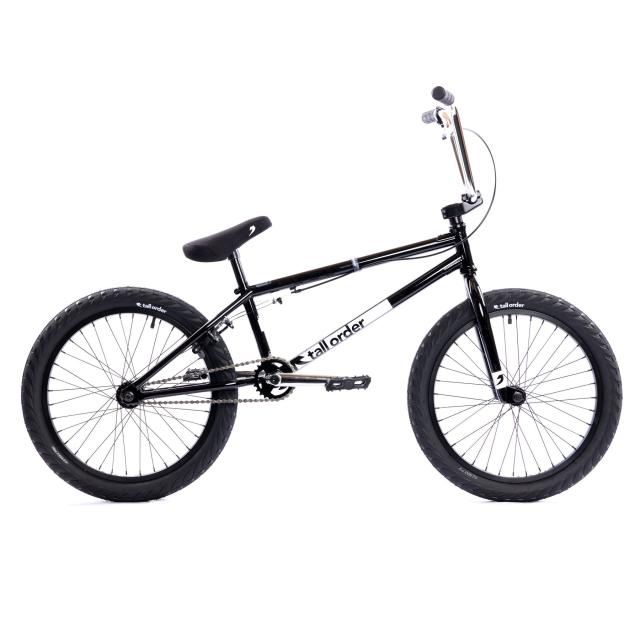bmx-bike: (18, 82, 623, 506)
